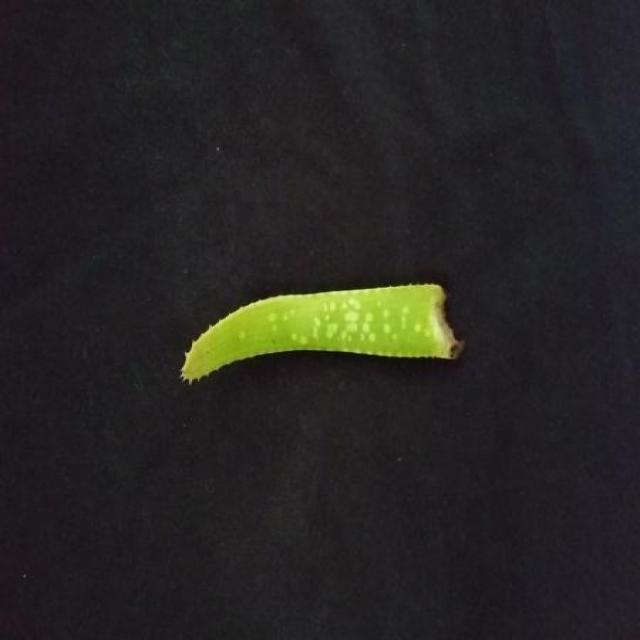alovera: (182, 284, 462, 381)
defectedalovera: (257, 306, 457, 356)
